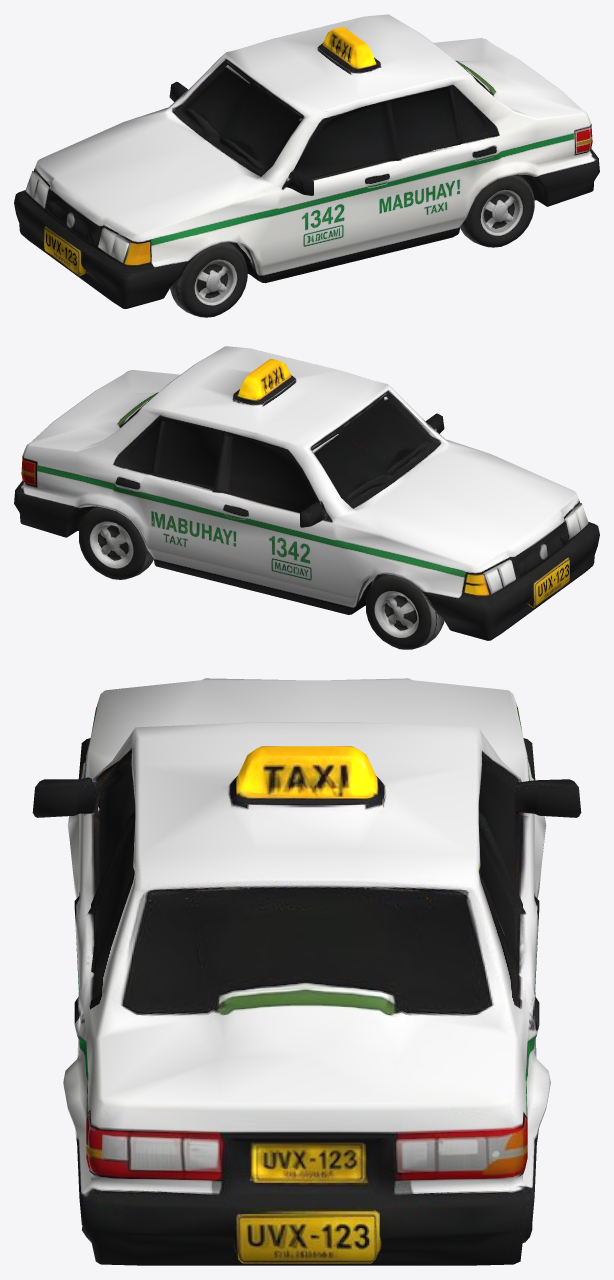
The model's file is taxi.glb.
3 views of the same model, one above another, from view 1: azimuth 30°, elevation 25°; view 2: azimuth 150°, elevation 25°; view 3: azimuth 270°, elevation 25° (orthographic). The views are drawn at different scales.
Bounding box in the file's own units: 1.91 × 0.728 × 0.9198.
1 material, 1 textured.
